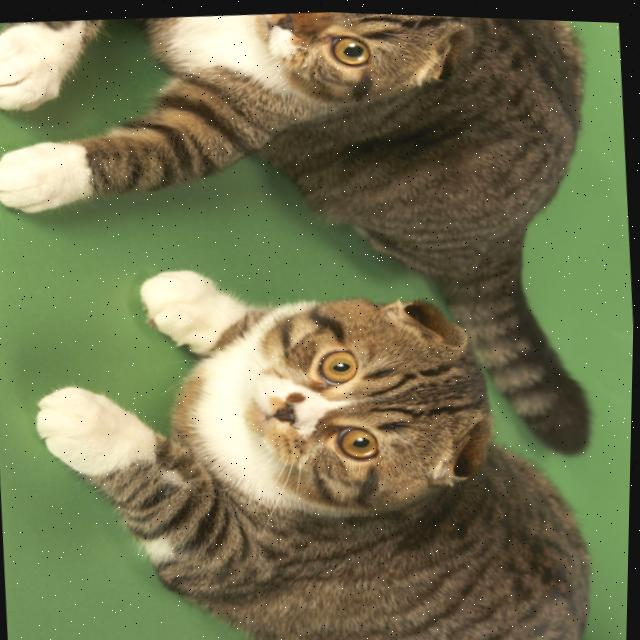Scottish Fold: (21, 229, 636, 640), (0, 0, 604, 292)
